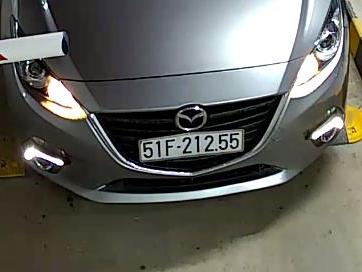car: (138, 130, 245, 164)
